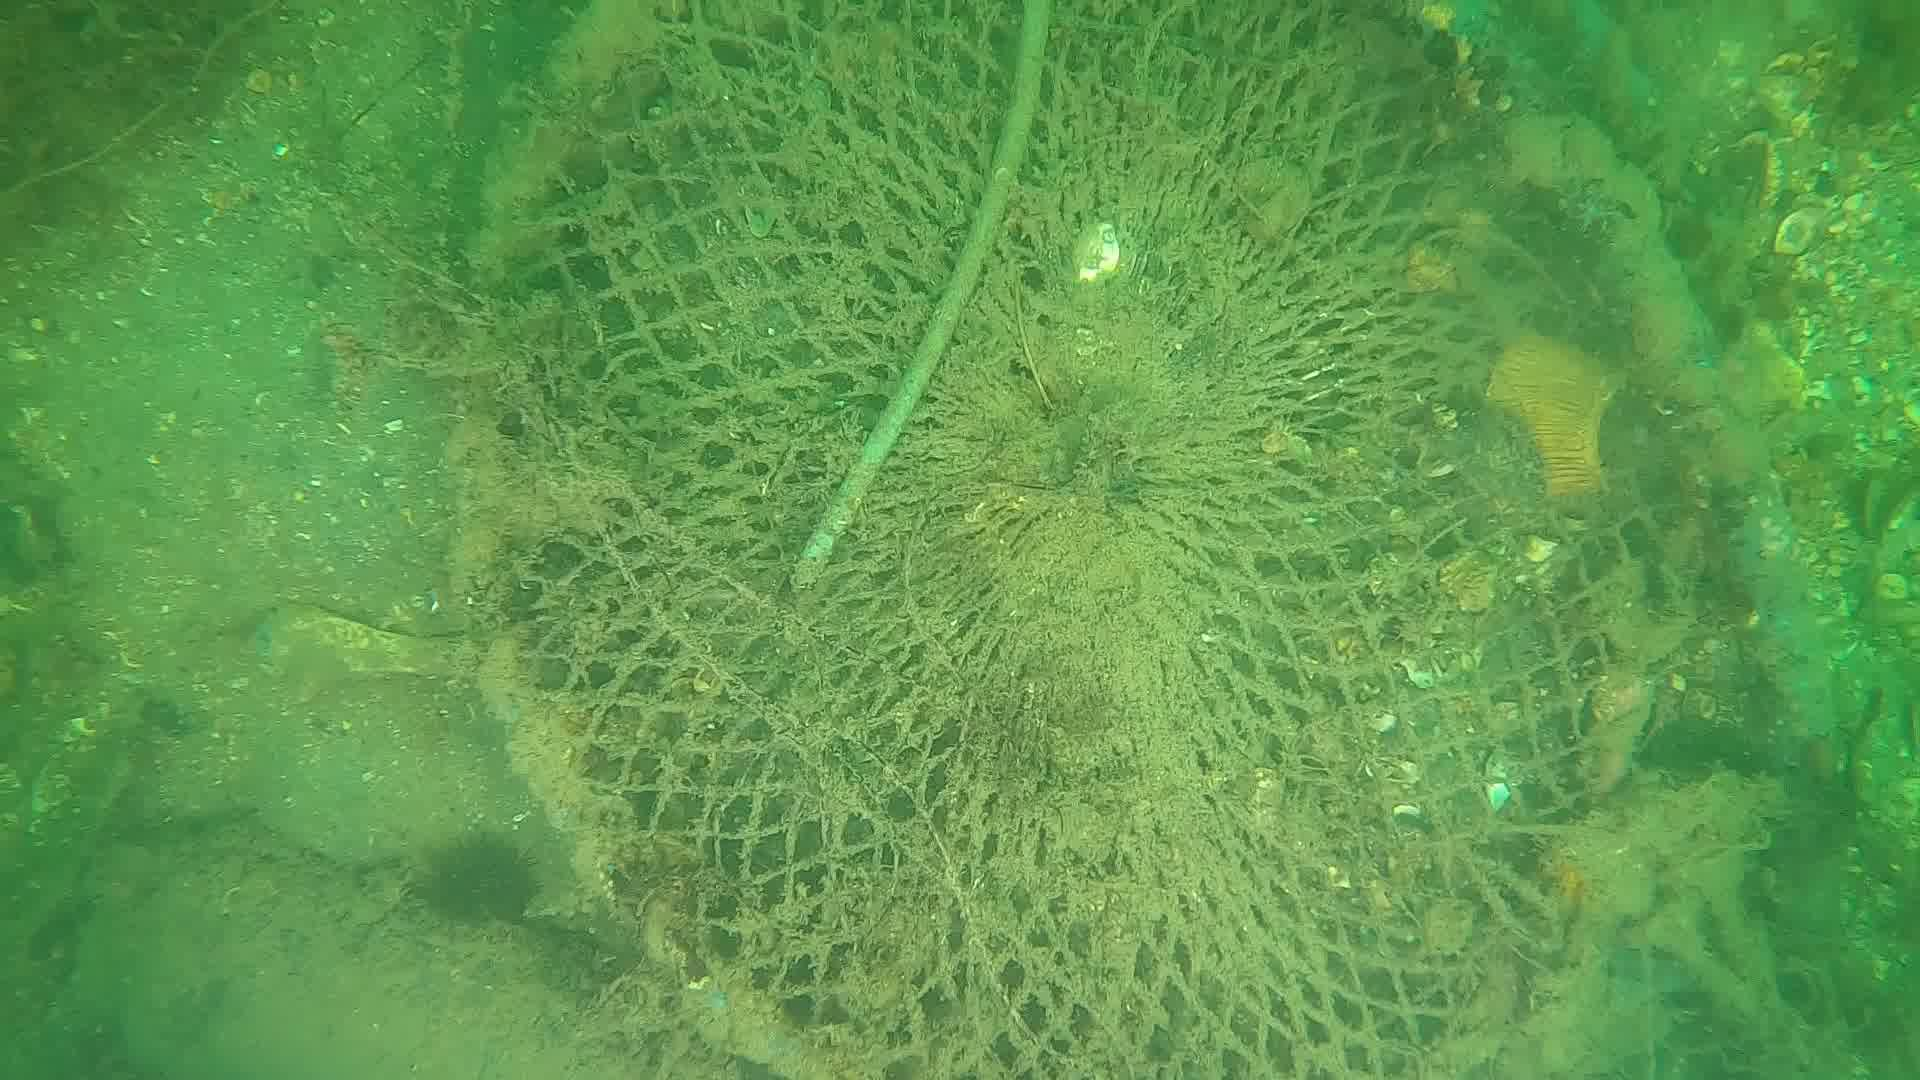circular fish trap: (451, 0, 1660, 1080)
